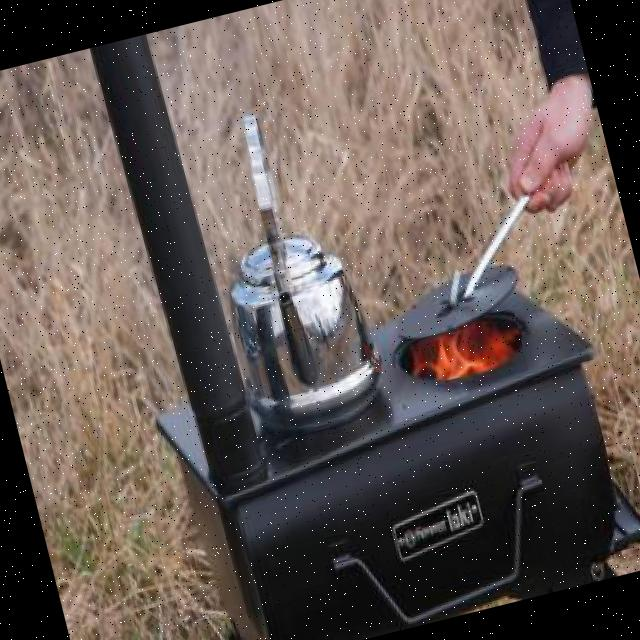fire: (398, 308, 528, 399)
